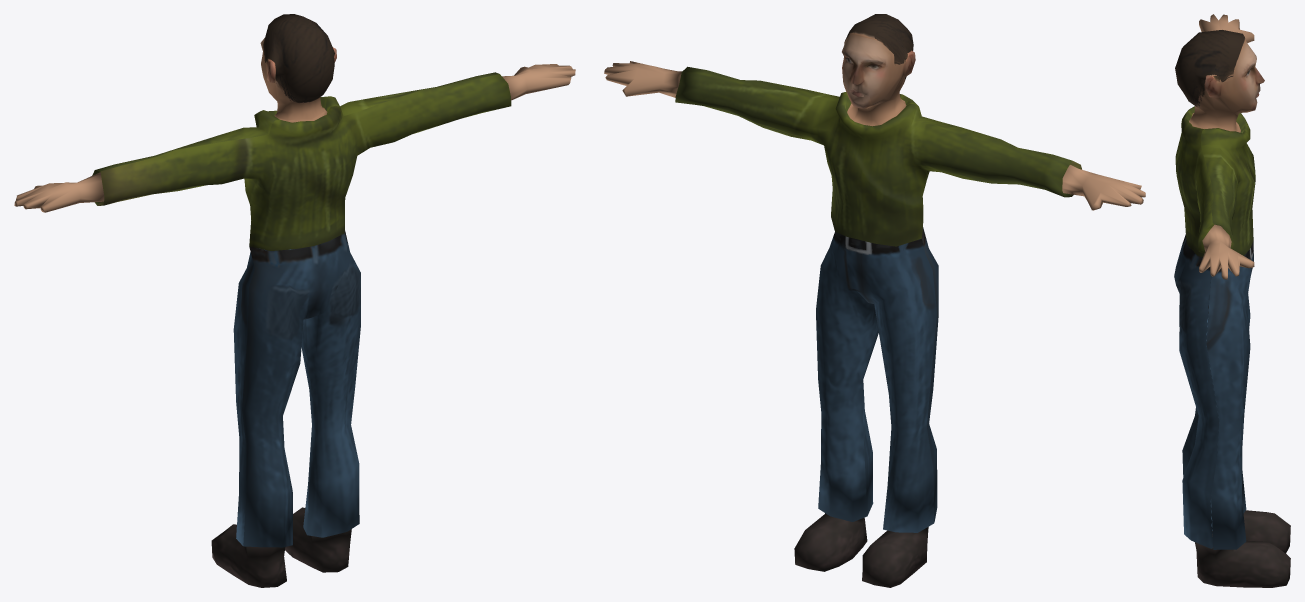
The model's file is nps man.fbx.
3 views of the same model, side by side, from view 1: azimuth 30°, elevation 25°; view 2: azimuth 150°, elevation 25°; view 3: azimuth 270°, elevation 25° (orthographic). The views are drawn at different scales.
Parts seen in each view (by area): view 1: Plane; view 2: Plane; view 3: Plane.
Part boxes in pixels (left/top/right/bottom): Plane: left=14, top=14, right=575, bottom=587; Plane: left=604, top=14, right=1145, bottom=587; Plane: left=1174, top=14, right=1290, bottom=587.
Size of the model in its own units: 196 by 186 by 37.03.
1 material, 1 textured.
